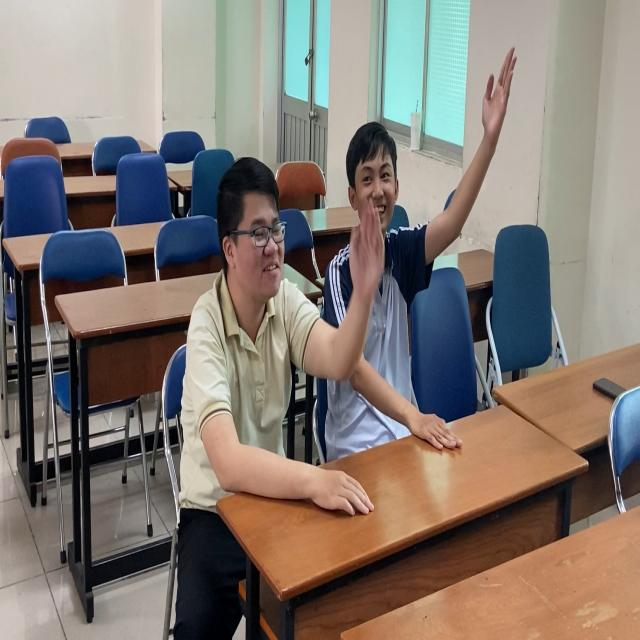raise_hand: (322, 41, 520, 472), (174, 151, 389, 506)
